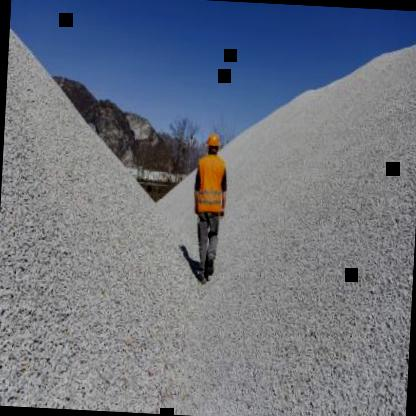helmet: (204, 128, 223, 157)
